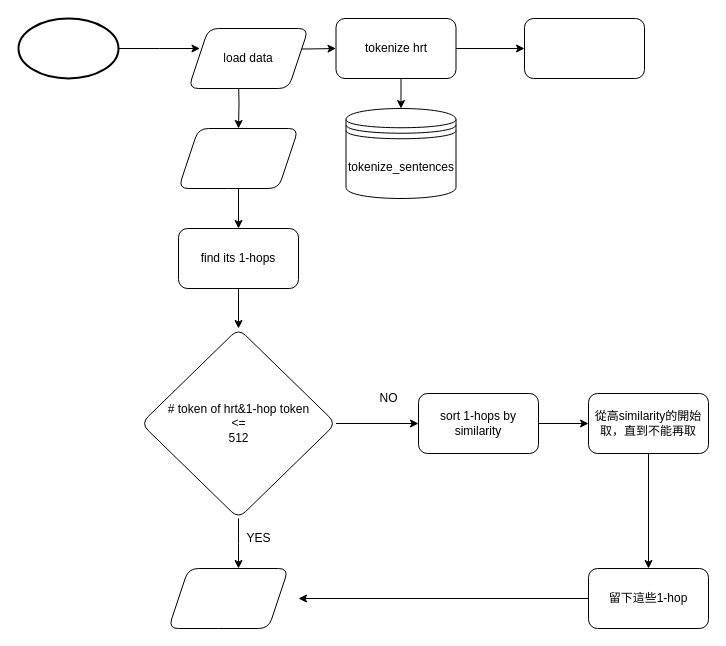
Image size: 726x646. Some labels were removed from this diagram. Each missing label, with the centre of its shape:
caculate tokens length: the point at 584,48
give a hrt: the point at 238,158
start: the point at 68,48
輸出 hrt + 1-hops: the point at 228,598
